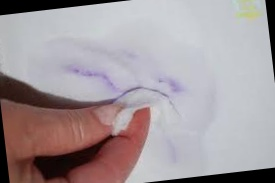ink: (72, 62, 110, 88), (161, 73, 187, 95)
